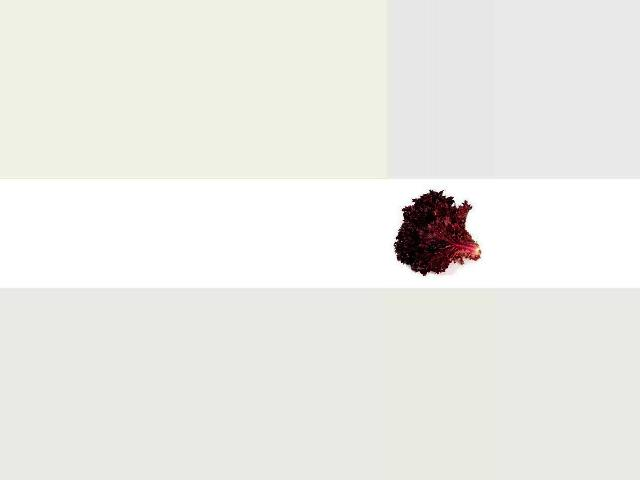lettuce: (389, 188, 489, 271)
